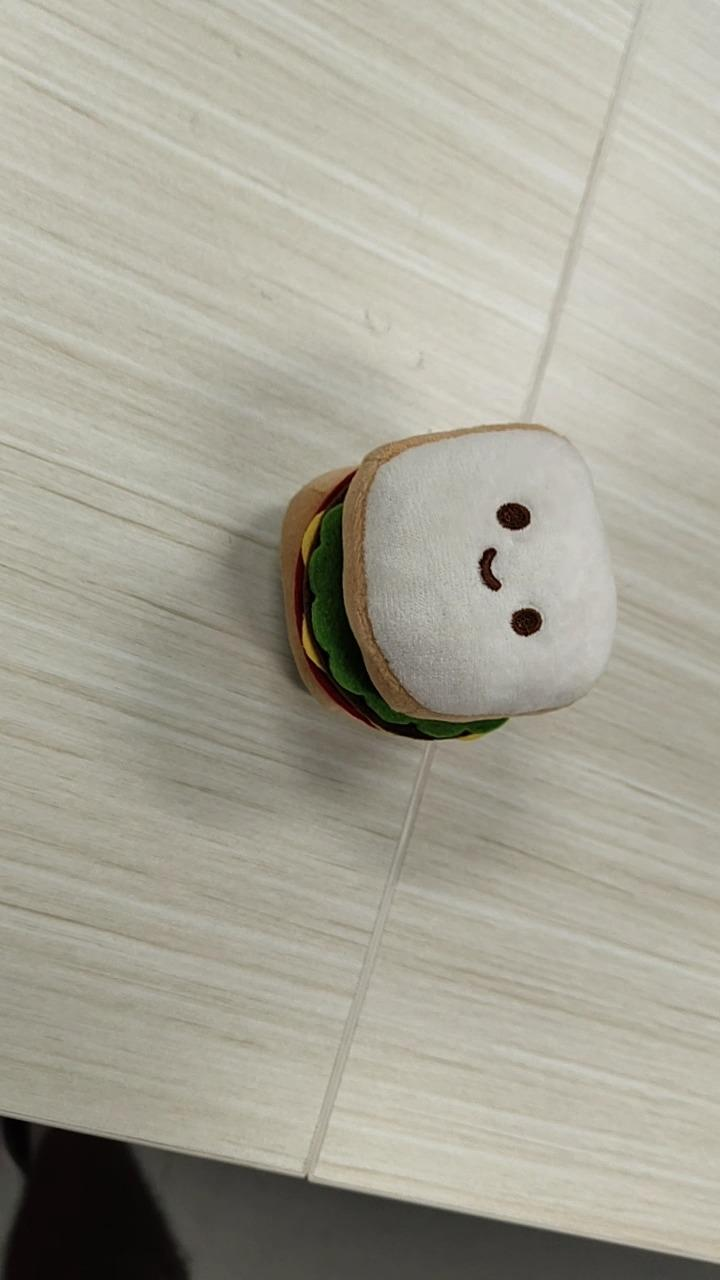objects: (278, 419, 618, 743)
